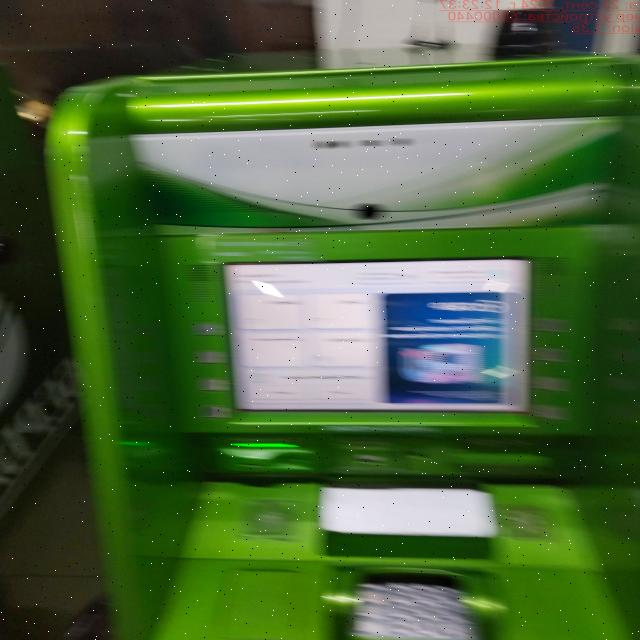bank: (43, 51, 640, 640)
